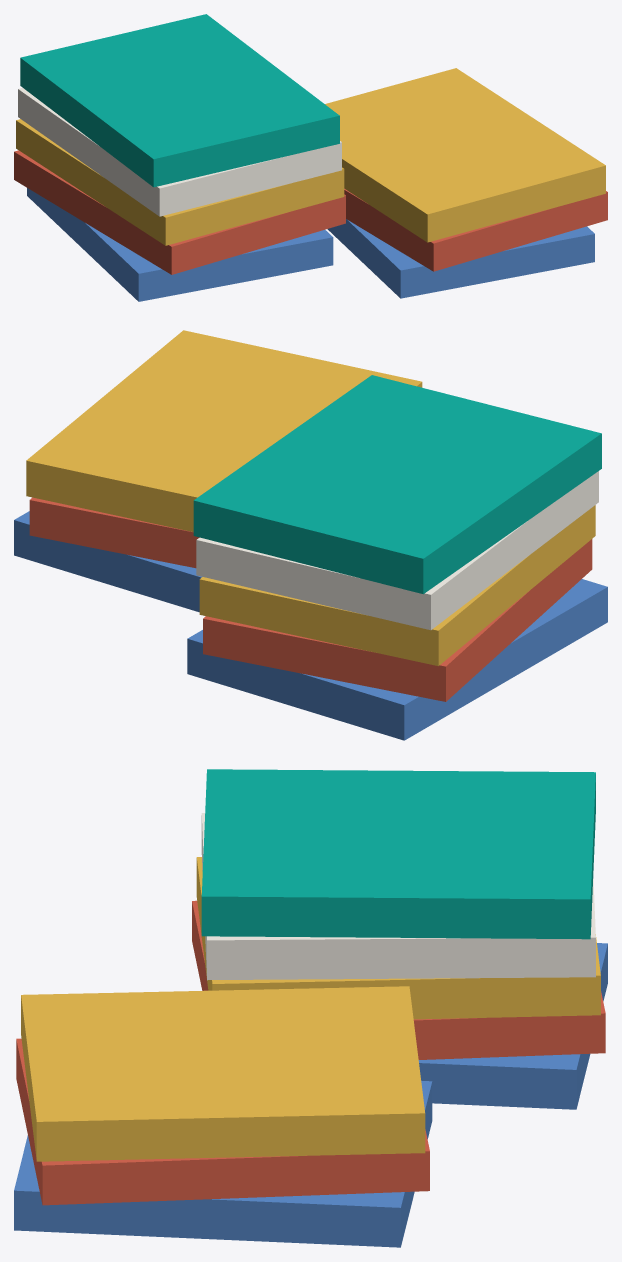
Rendered from station_special_ausstattung_1_1.glb.
The picture shows the model from 3 angles, top to bottom: view 1: azimuth 30°, elevation 25°; view 2: azimuth 150°, elevation 25°; view 3: azimuth 270°, elevation 25°; orthographic projection. The views are drawn at different scales.
Parts seen in each view (by area): view 1: station_special_ausstattung_1_1; view 2: station_special_ausstattung_1_1; view 3: station_special_ausstattung_1_1.
Boxes of the visible parts, x1,y1,x2,y2 form: station_special_ausstattung_1_1: [14, 14, 607, 301]; station_special_ausstattung_1_1: [14, 330, 607, 740]; station_special_ausstattung_1_1: [14, 769, 607, 1247].
Size of the model in its own units: 0.5311 by 0.179 by 0.4734.
